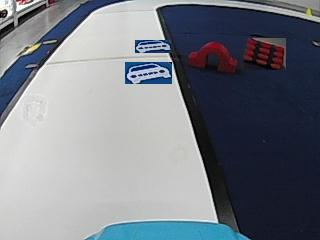bridge: (190, 41, 237, 72)
